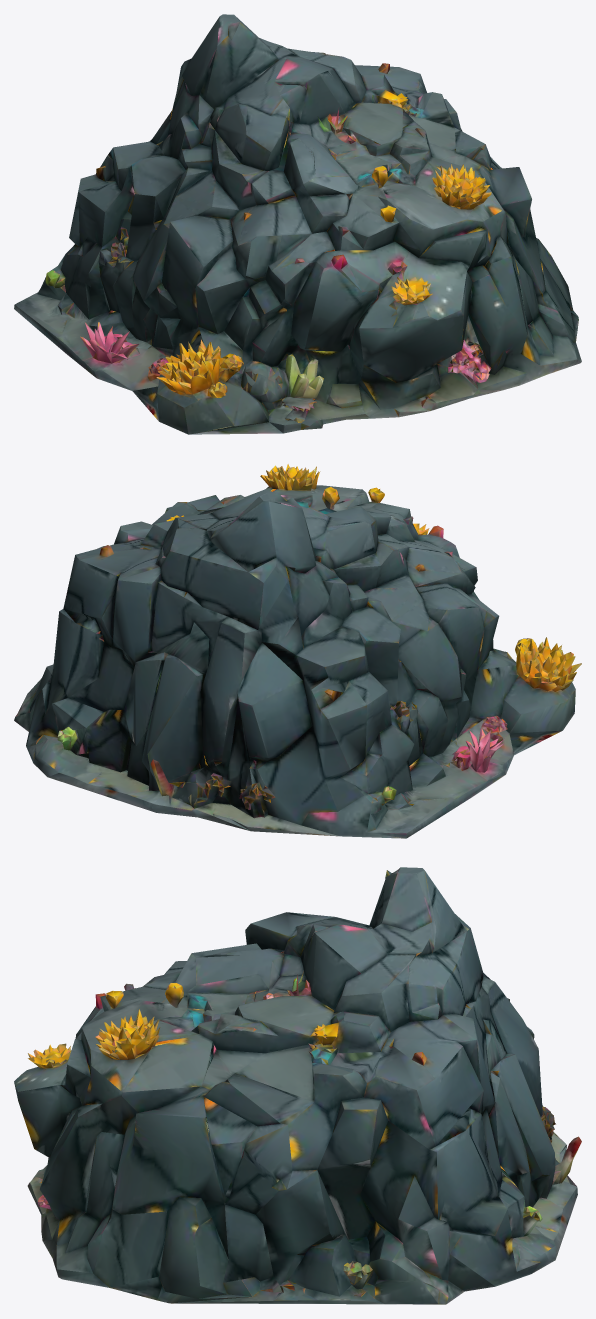
File: reef-rock.glb
The picture shows the model from 3 angles, top to bottom: view 1: azimuth 30°, elevation 25°; view 2: azimuth 150°, elevation 25°; view 3: azimuth 270°, elevation 25°; orthographic projection. The views are drawn at different scales.
Bounding box in the file's own units: 1.84 × 1.12 × 1.9.
1 material, 1 textured.
